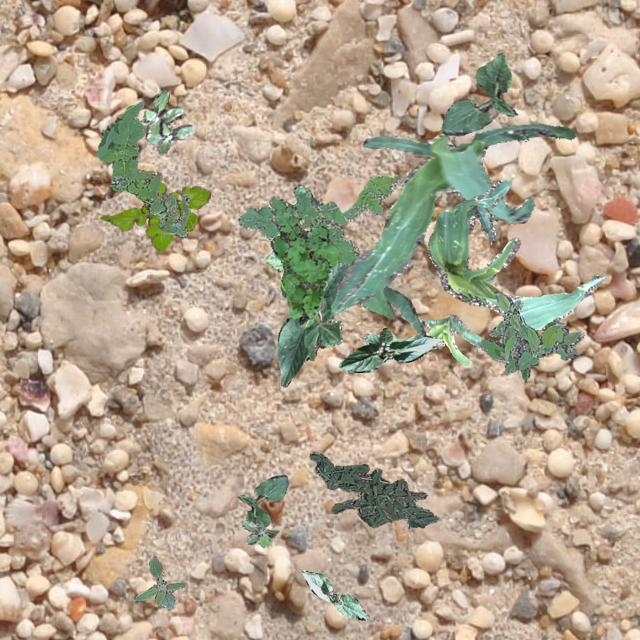crop: (330, 122, 574, 312), (426, 178, 604, 329), (276, 262, 348, 386), (441, 52, 516, 134), (338, 326, 443, 372), (300, 568, 368, 620), (356, 286, 424, 334), (417, 314, 482, 364), (236, 474, 286, 526), (264, 248, 286, 296)
weed: (236, 174, 402, 264), (96, 101, 188, 236), (479, 290, 584, 382), (308, 452, 436, 526), (100, 182, 210, 252), (268, 212, 338, 318), (138, 90, 192, 154), (134, 556, 184, 610), (242, 520, 278, 546)
